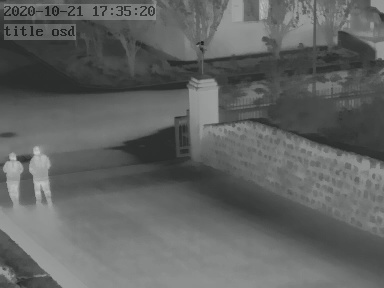person: (30, 145, 50, 206), (3, 151, 23, 207)
